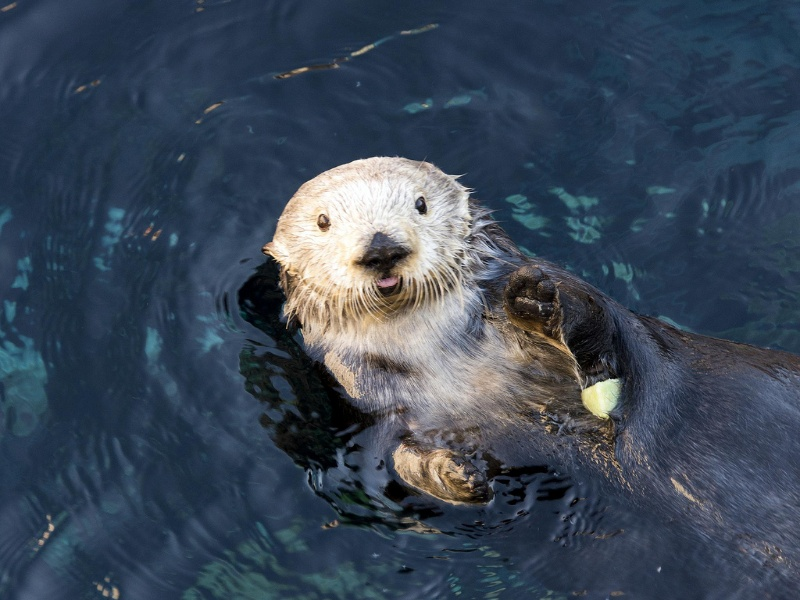minkish: (244, 141, 786, 564)
